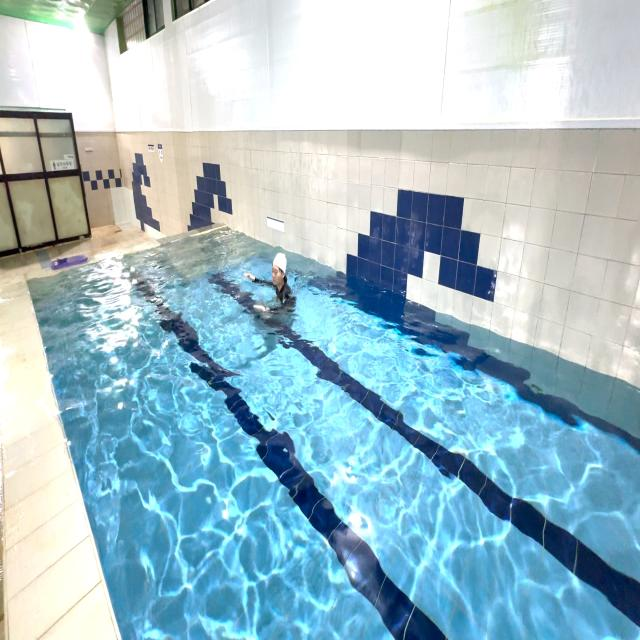Swimming: (239, 234, 313, 343)
